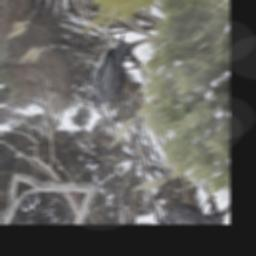Crow: (71, 28, 155, 113)
